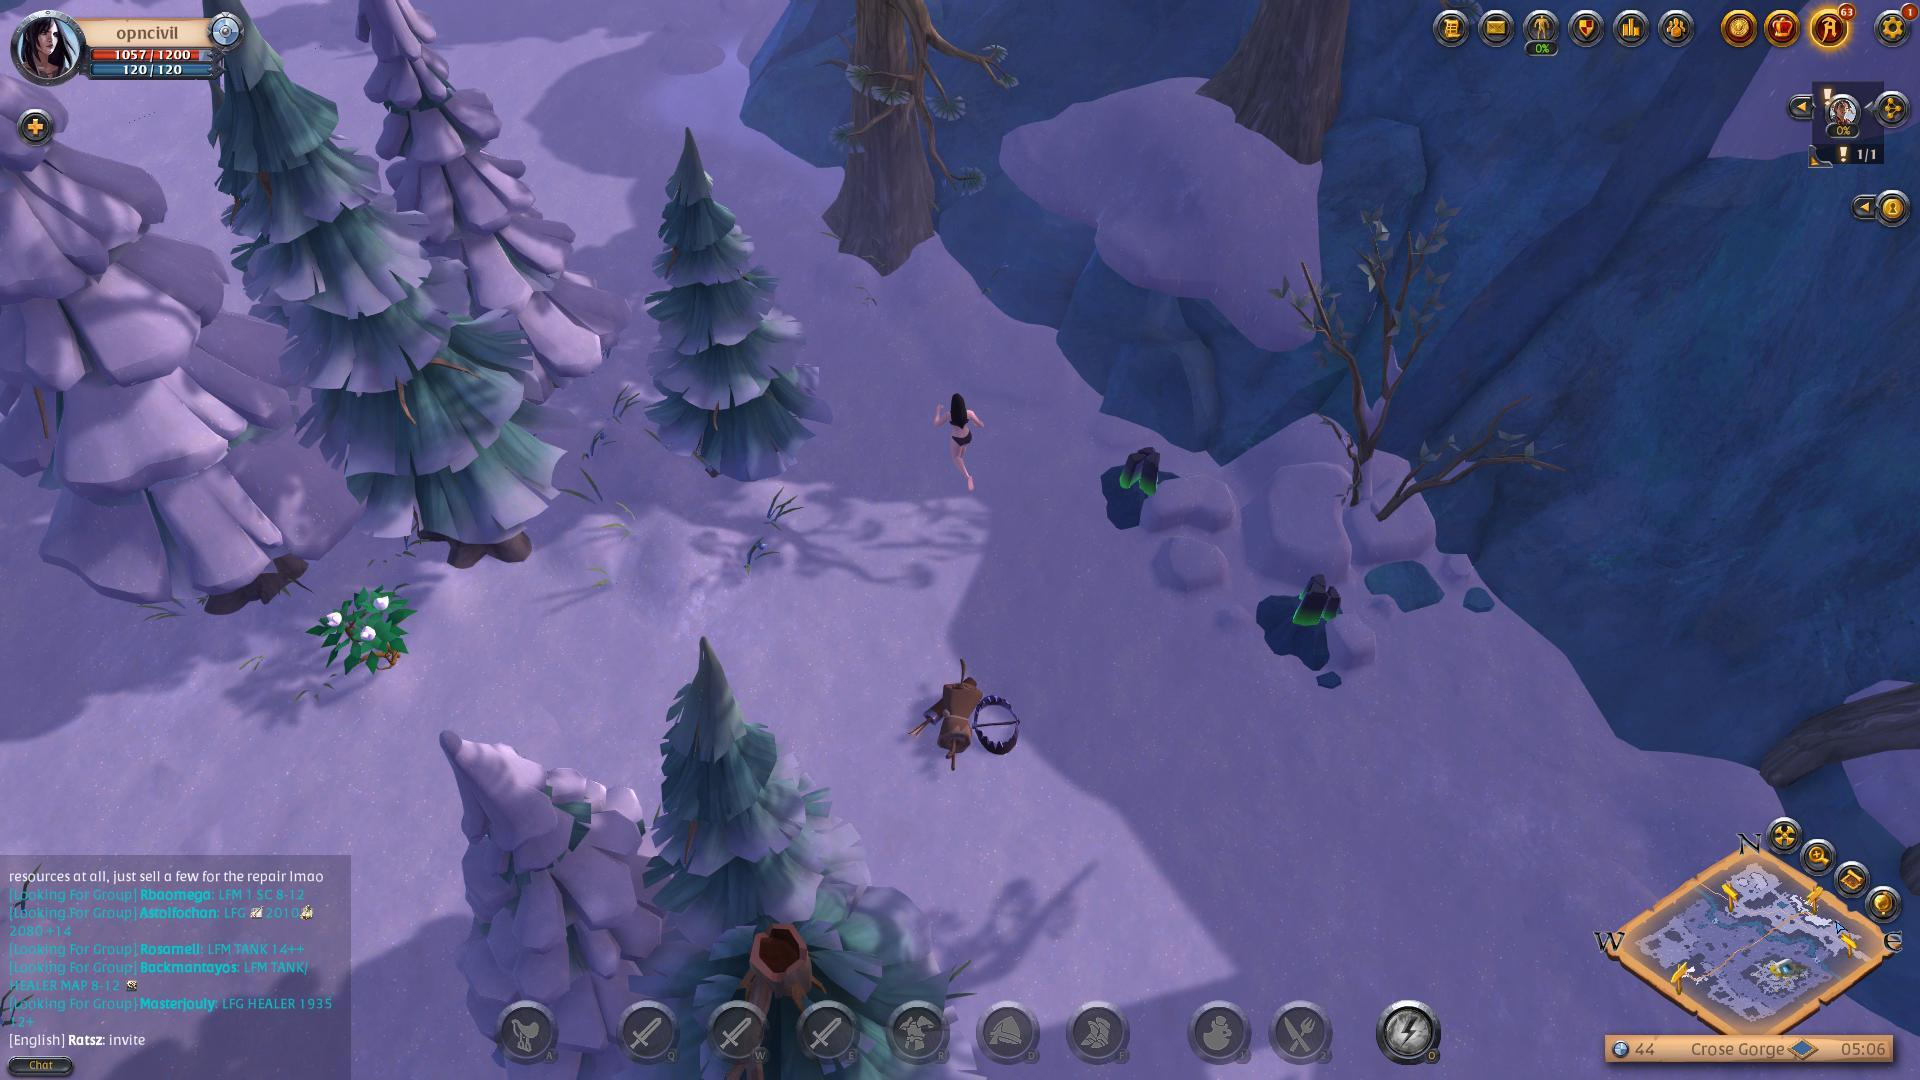flax: (307, 575, 426, 695)
tin_ore: (1242, 560, 1358, 683), (1093, 440, 1187, 535)
